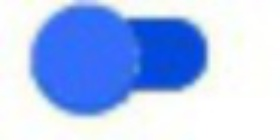Switch: (1, 1, 279, 139)
